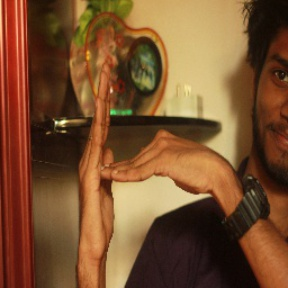Z: (65, 63, 218, 256)
